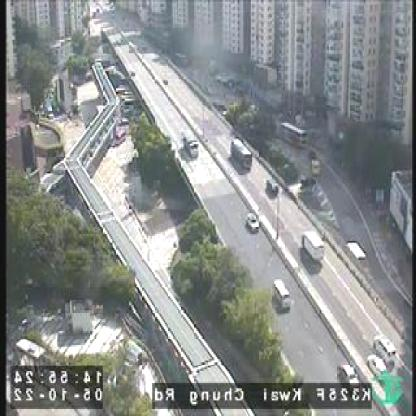Bus: (282, 120, 307, 147), (234, 139, 252, 170), (276, 278, 292, 310)
Car: (374, 333, 396, 364), (368, 354, 389, 380), (341, 360, 360, 386), (248, 212, 259, 232), (268, 179, 278, 194)
Truck: (304, 230, 324, 262), (186, 132, 199, 156)
